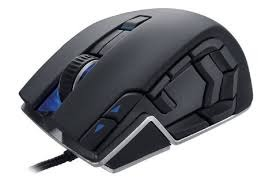mouse: (19, 7, 254, 173)
